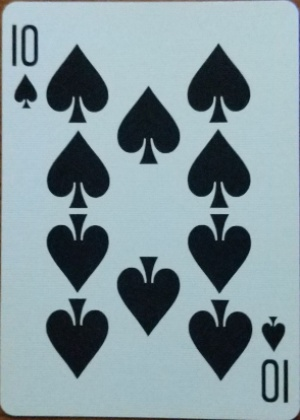S0: (259, 314, 291, 404), (8, 21, 40, 110)
